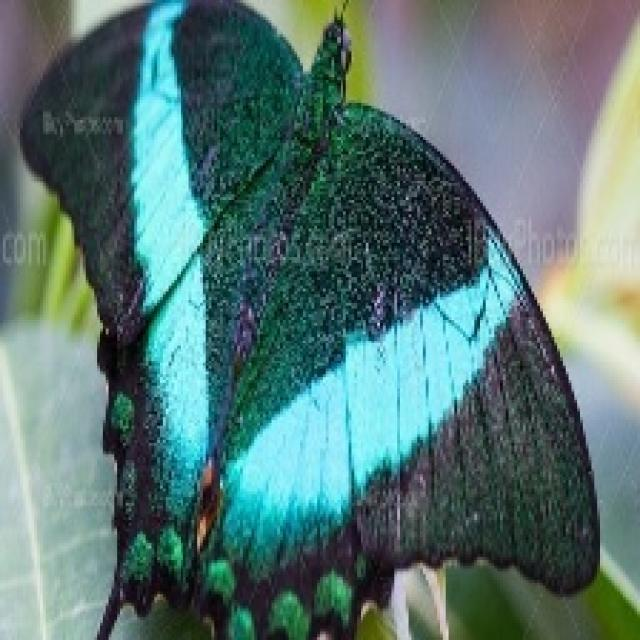butterfly: (17, 0, 600, 637)
